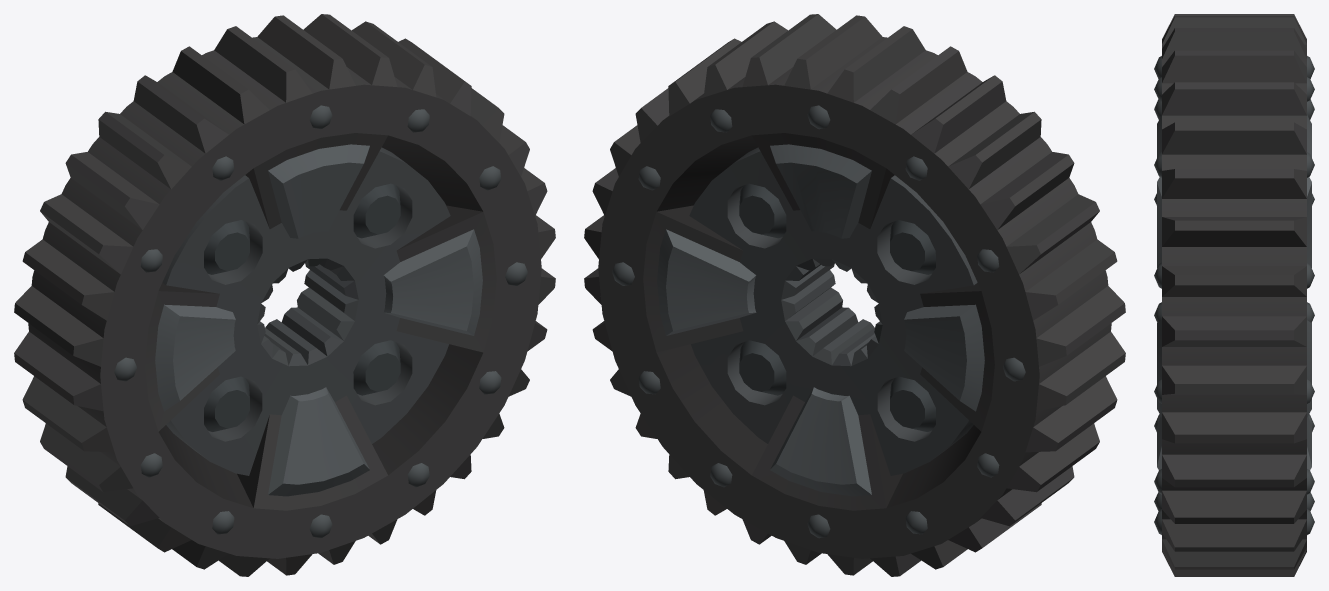
File: Gear_001.glb
3 views of the same model, side by side, from view 1: azimuth 30°, elevation 25°; view 2: azimuth 150°, elevation 25°; view 3: azimuth 270°, elevation 25° (orthographic).
Parts seen in each view (by area): view 1: Gear_001; view 2: Gear_001; view 3: Gear_001.
Part boxes in pixels (left/top/right/bottom): Gear_001: left=14, top=14, right=555, bottom=576; Gear_001: left=584, top=14, right=1125, bottom=576; Gear_001: left=1154, top=14, right=1314, bottom=576.
Size of the model in its own units: 10.2 by 10.2 by 2.92.
1 material, 1 textured.
